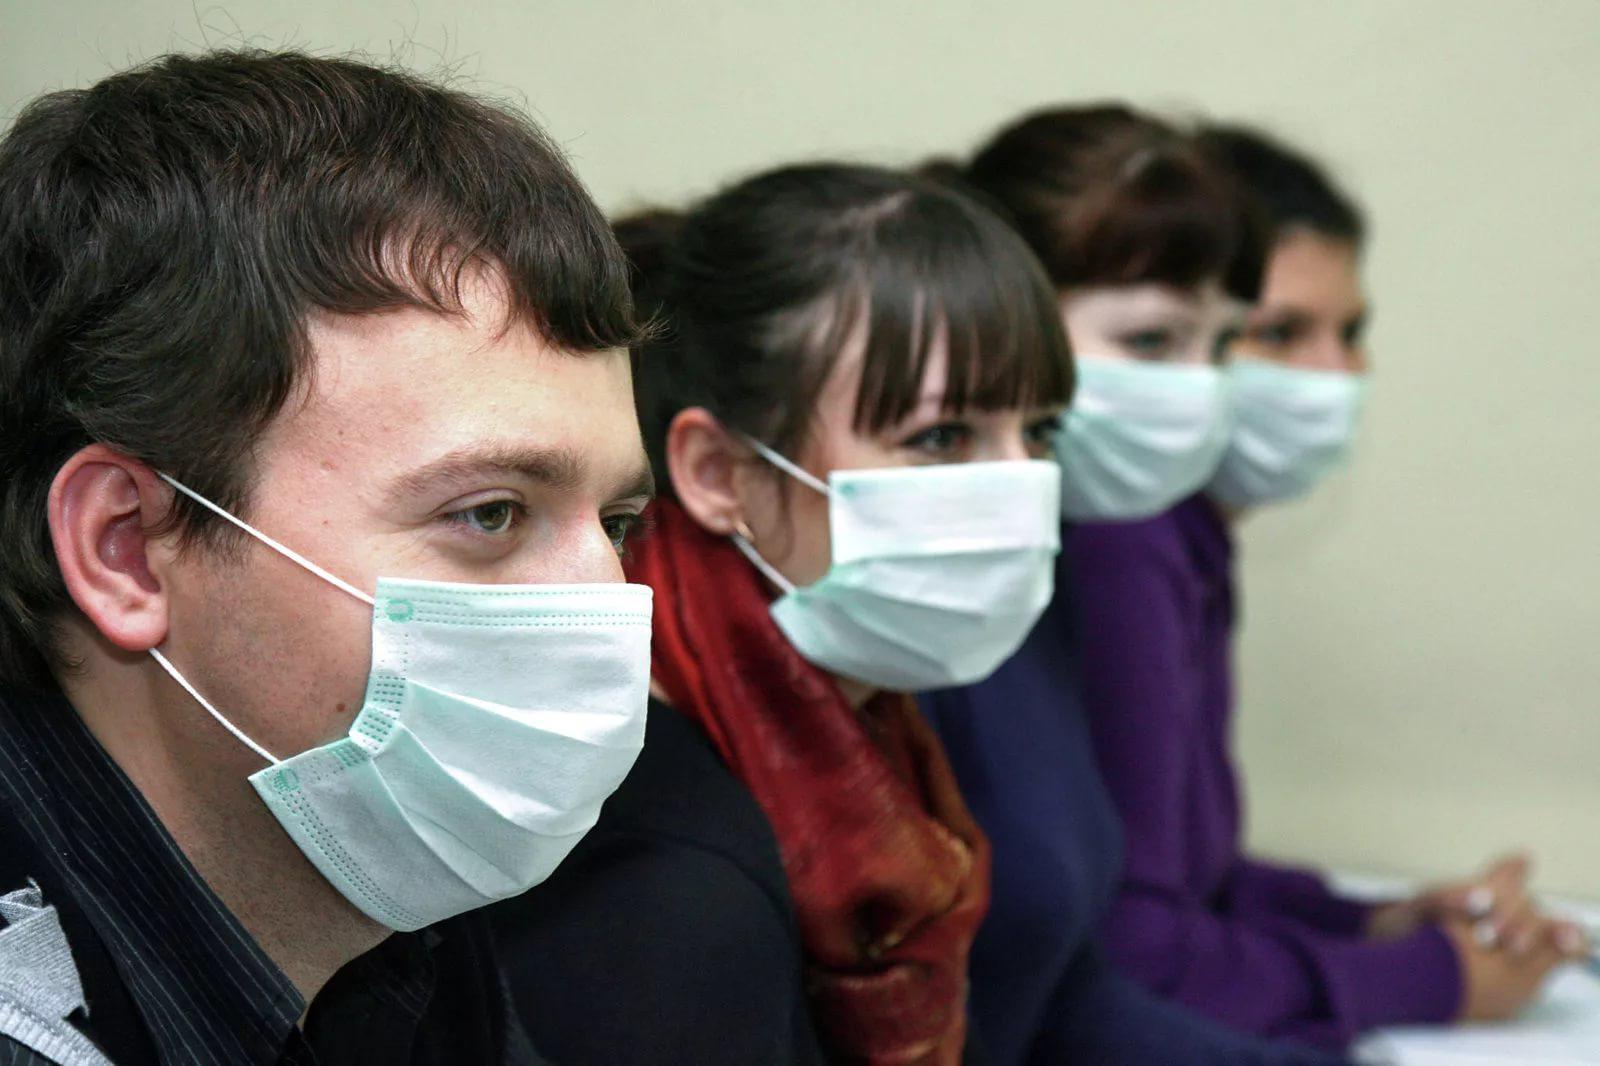mask: (222, 301, 672, 917), (795, 318, 1065, 686), (1040, 228, 1251, 535), (1226, 220, 1376, 498)
